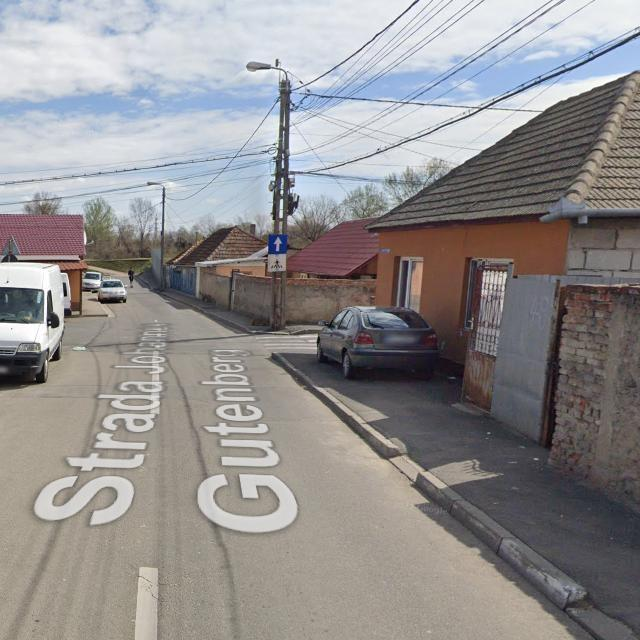forb_speed_over_30: (268, 254, 287, 272)
